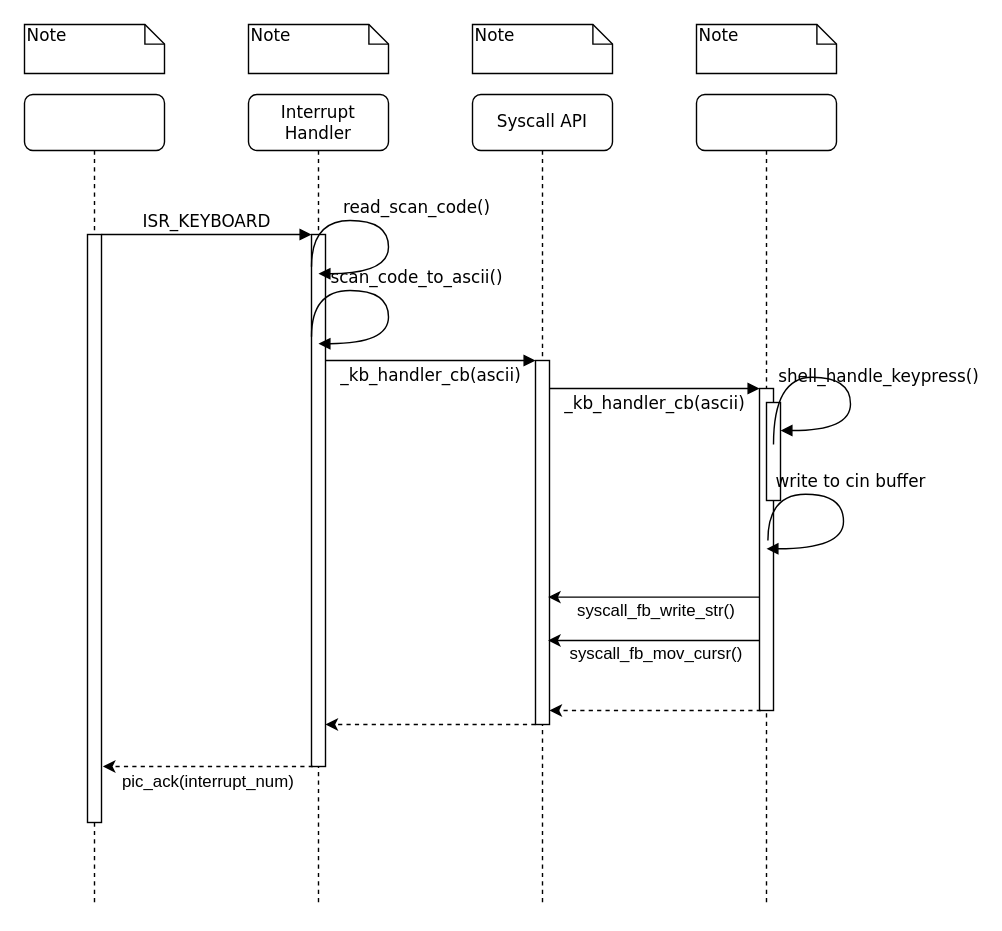
Image size: 1002x931. Some labels were removed from this diagram. Each missing label, with the box of its shape:
Keyboard: (23, 93, 164, 906)
Shell: (695, 93, 836, 906)
